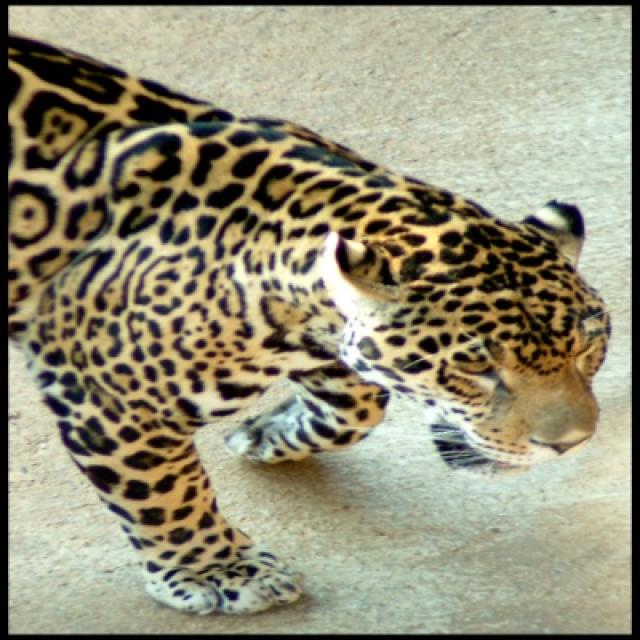Jaguar: (8, 32, 612, 617)
